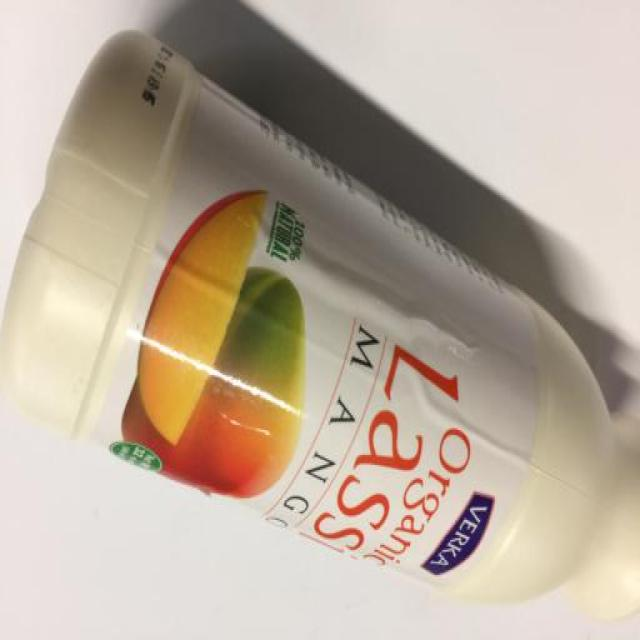Plastic: (0, 28, 640, 620)
